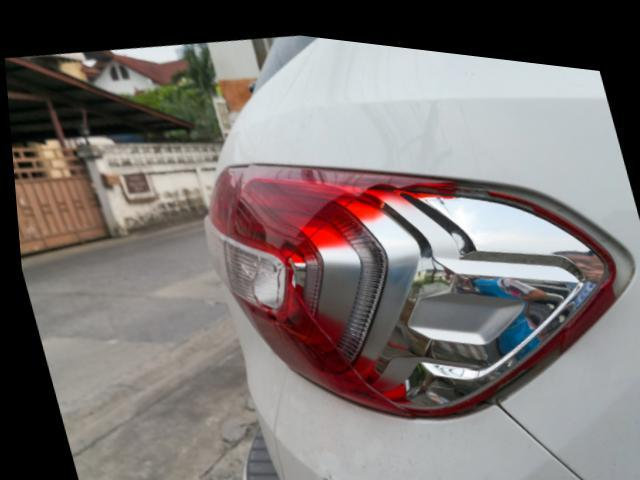lamp broken: (202, 157, 621, 407)
